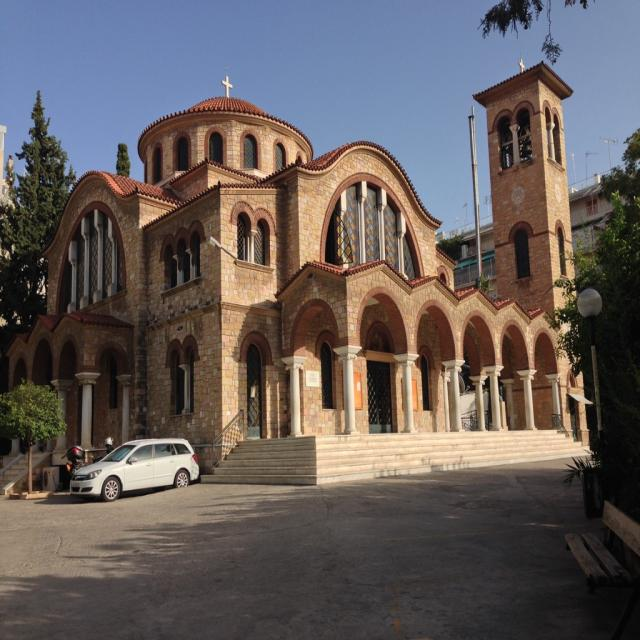car: (66, 433, 195, 499)
